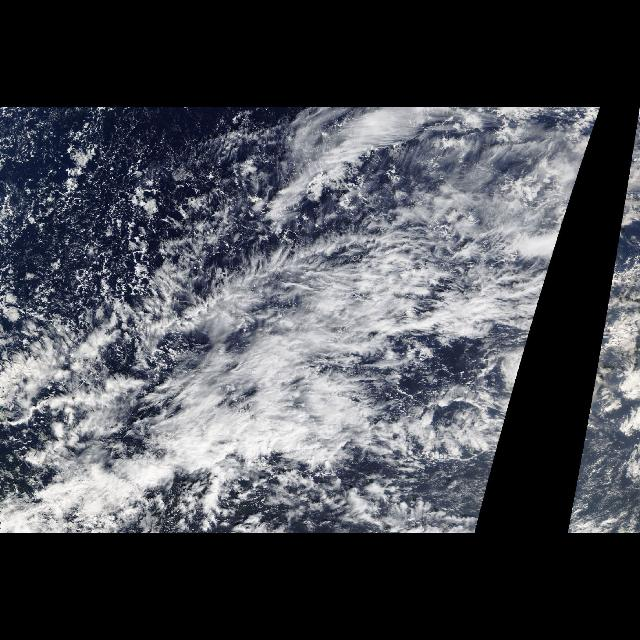Fish: (3, 254, 444, 530)
Gravel: (2, 108, 270, 342)
Sugar: (1, 108, 243, 250), (380, 465, 494, 511), (568, 465, 640, 511)
